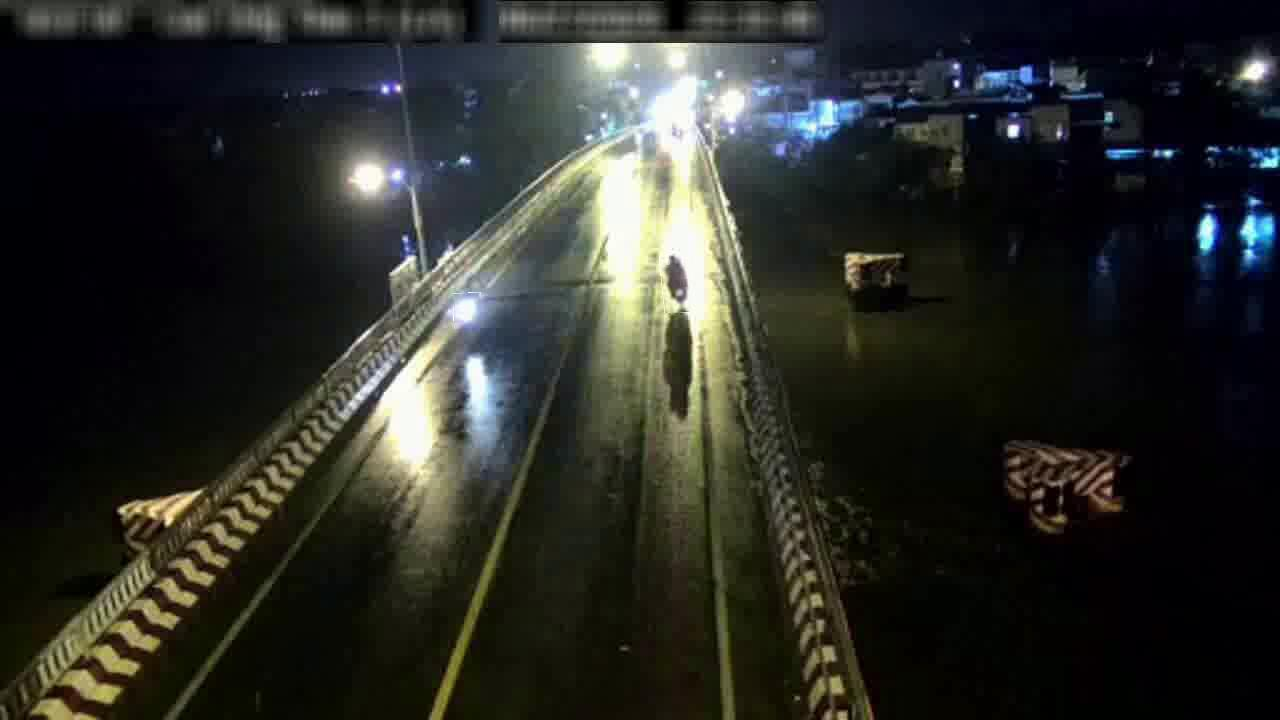motorbike: (661, 254, 692, 314), (454, 293, 482, 330)
